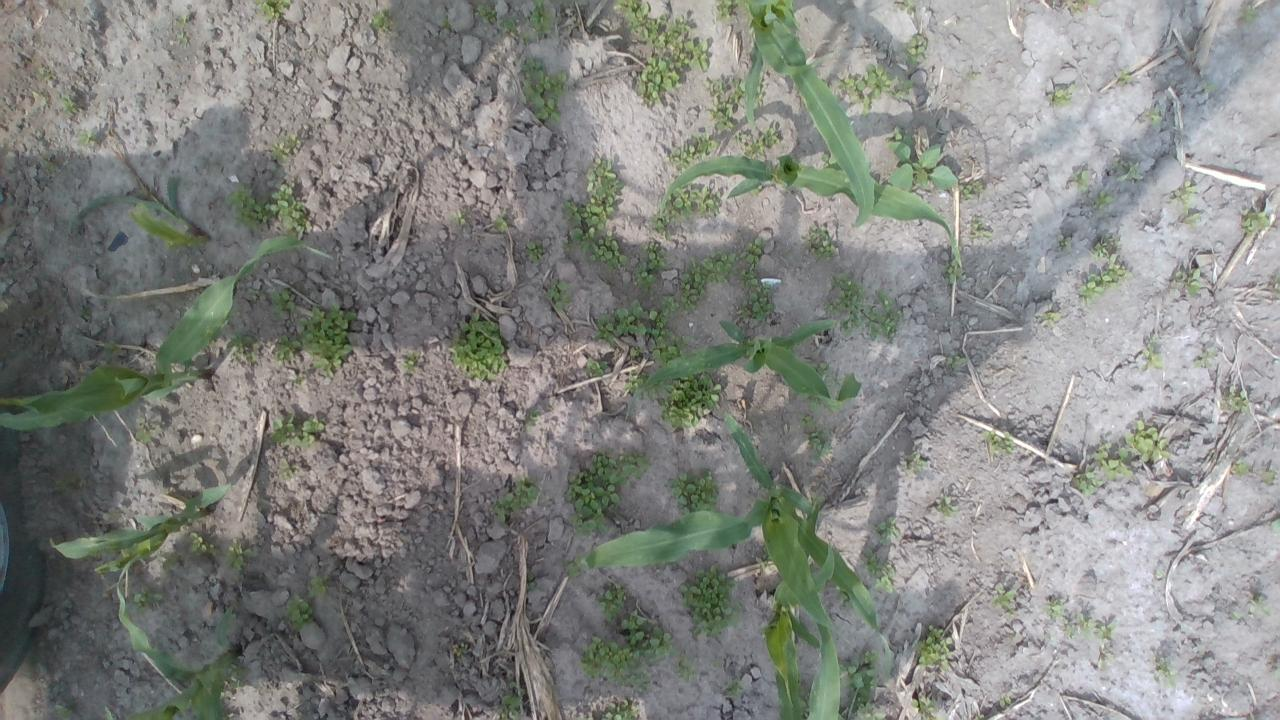Maize: (576, 412, 894, 674), (0, 235, 338, 430), (658, 153, 966, 270), (737, 0, 875, 229), (53, 553, 242, 720), (640, 318, 862, 410), (51, 480, 230, 572), (763, 544, 836, 720), (69, 182, 212, 248), (806, 613, 840, 720)
Weeds: (560, 158, 630, 272), (564, 450, 648, 536), (823, 272, 902, 338), (886, 128, 960, 194), (678, 565, 742, 640), (225, 182, 312, 233), (298, 302, 356, 378), (447, 312, 510, 380), (580, 633, 650, 693), (836, 62, 912, 115), (651, 374, 722, 430), (649, 187, 722, 238), (679, 252, 738, 312), (519, 56, 569, 122), (646, 296, 690, 370), (738, 238, 776, 322), (623, 610, 681, 664), (841, 649, 882, 720), (612, 0, 671, 48), (1079, 259, 1135, 305), (593, 300, 646, 346), (666, 470, 720, 514), (636, 54, 681, 105), (704, 78, 746, 132), (493, 474, 538, 524), (671, 16, 710, 72), (666, 133, 716, 176), (914, 625, 956, 674), (632, 240, 666, 298), (1126, 421, 1174, 462), (271, 417, 323, 450), (861, 546, 896, 594), (1062, 614, 1118, 642), (1094, 442, 1134, 481), (736, 126, 780, 160), (1172, 181, 1204, 226), (594, 582, 626, 624), (284, 593, 315, 632), (804, 424, 834, 464), (230, 328, 260, 363), (809, 222, 836, 260), (496, 683, 523, 720), (225, 543, 255, 576), (132, 586, 164, 616), (1072, 466, 1104, 496), (1240, 207, 1272, 236), (269, 286, 296, 320), (545, 280, 573, 312), (256, 0, 294, 23), (1221, 384, 1250, 414), (1171, 268, 1202, 296), (910, 695, 944, 720), (904, 31, 929, 64), (600, 699, 639, 720), (529, 0, 553, 34), (274, 333, 301, 363), (270, 134, 301, 160), (1153, 656, 1178, 688), (990, 584, 1015, 616), (1142, 334, 1164, 370), (1090, 232, 1120, 258), (1048, 82, 1080, 106), (874, 516, 900, 544), (984, 430, 1014, 454), (1115, 158, 1143, 182), (189, 530, 217, 554), (369, 6, 392, 33), (804, 360, 832, 380), (676, 656, 697, 682), (934, 495, 960, 516), (942, 260, 962, 286), (624, 373, 650, 393), (474, 2, 496, 25), (587, 356, 610, 378), (721, 678, 746, 698), (57, 93, 80, 114), (1248, 596, 1272, 616), (968, 222, 992, 242), (959, 180, 983, 200), (308, 574, 328, 598), (797, 392, 821, 412), (1194, 348, 1216, 369), (906, 452, 929, 472), (136, 417, 154, 442), (836, 587, 856, 609), (496, 15, 520, 33), (1072, 169, 1090, 193), (228, 664, 246, 688), (1092, 190, 1114, 209), (400, 351, 421, 370), (518, 31, 544, 46), (712, 0, 732, 19), (526, 241, 544, 262), (1230, 457, 1249, 476), (1045, 598, 1065, 616), (564, 558, 582, 578), (278, 460, 294, 482), (820, 154, 841, 170), (524, 409, 538, 432), (78, 131, 99, 146), (1146, 109, 1163, 127), (1116, 67, 1132, 86), (1242, 4, 1258, 22), (1056, 238, 1072, 256), (753, 80, 765, 104), (944, 354, 968, 366), (174, 31, 190, 48), (1041, 310, 1058, 326), (1262, 468, 1278, 484), (34, 66, 51, 80), (797, 413, 816, 425), (630, 346, 644, 362), (226, 606, 240, 622), (175, 15, 192, 28), (1271, 272, 1280, 296), (496, 215, 508, 233), (452, 211, 466, 226), (42, 160, 55, 174), (526, 574, 537, 590), (1270, 516, 1280, 533), (900, 0, 914, 11), (1000, 694, 1011, 707), (968, 71, 982, 81), (439, 17, 450, 28), (458, 644, 468, 656), (1154, 568, 1164, 576), (1231, 611, 1239, 620)
